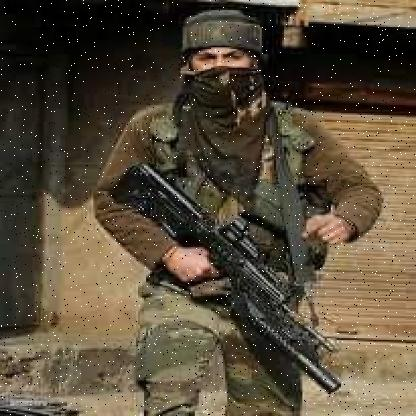rifle: (126, 159, 345, 399)
